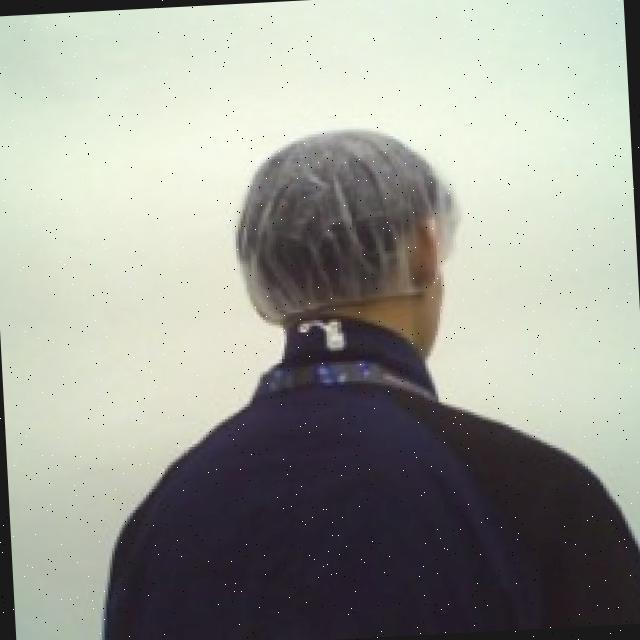gloves: (225, 120, 474, 350)
